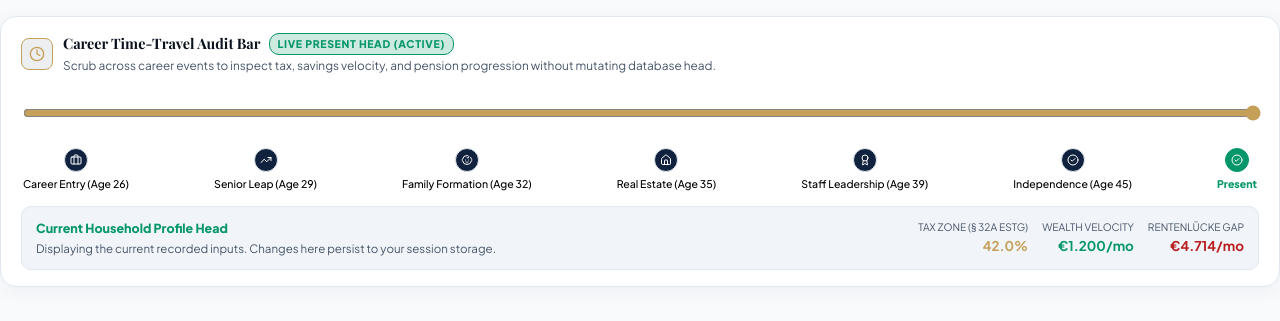
Test: TimeTravelScrubBar (Event Sourcing & Career Scrubbing R3) › scrubs to a historical career milestone and drives previewScenario without mutating primary profile
Note: Scrub to Milestone 0 (Career Entry Age 26, Junior Software Engineer)
Set the slider with test id "time-travel-slider" to "0" at x=31, y=113, box [23, 91, 1261, 135]
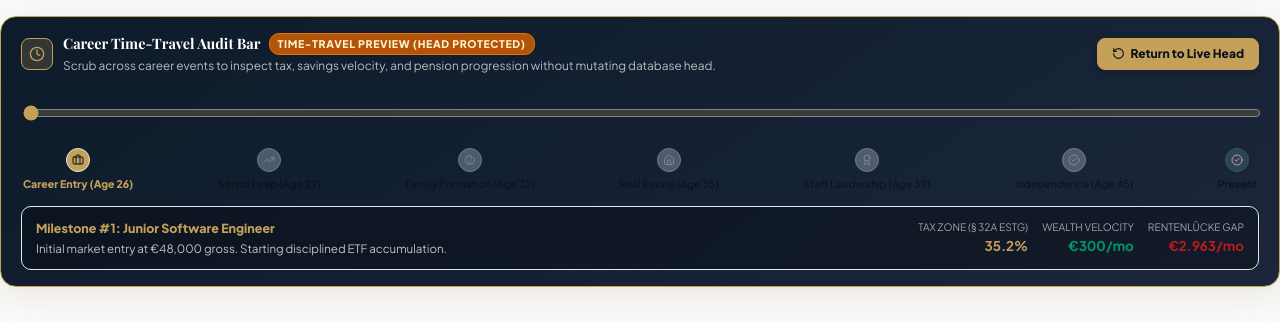
Check: the text "TIME-TRAVEL PREVIEW (HEAD PROTECTED)" is shown, box [269, 33, 535, 55]
Check: the text "Milestone #1: Junior Software Engineer" is shown, box [36, 220, 275, 236]
